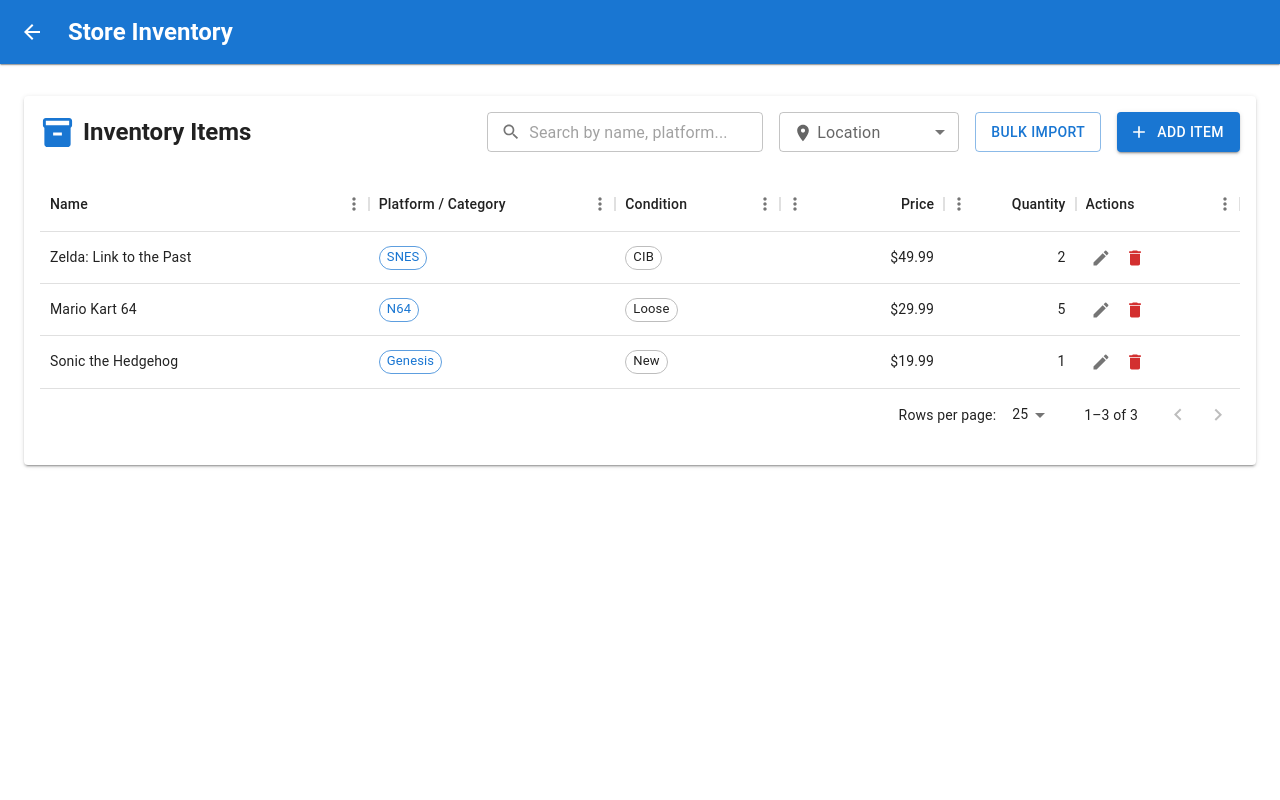
it: InventoryPage › Add Item dialog › closes dialog when Cancel is clicked
Click the button "Add Item": (1179,132) left=1117, top=112, right=1240, bottom=152
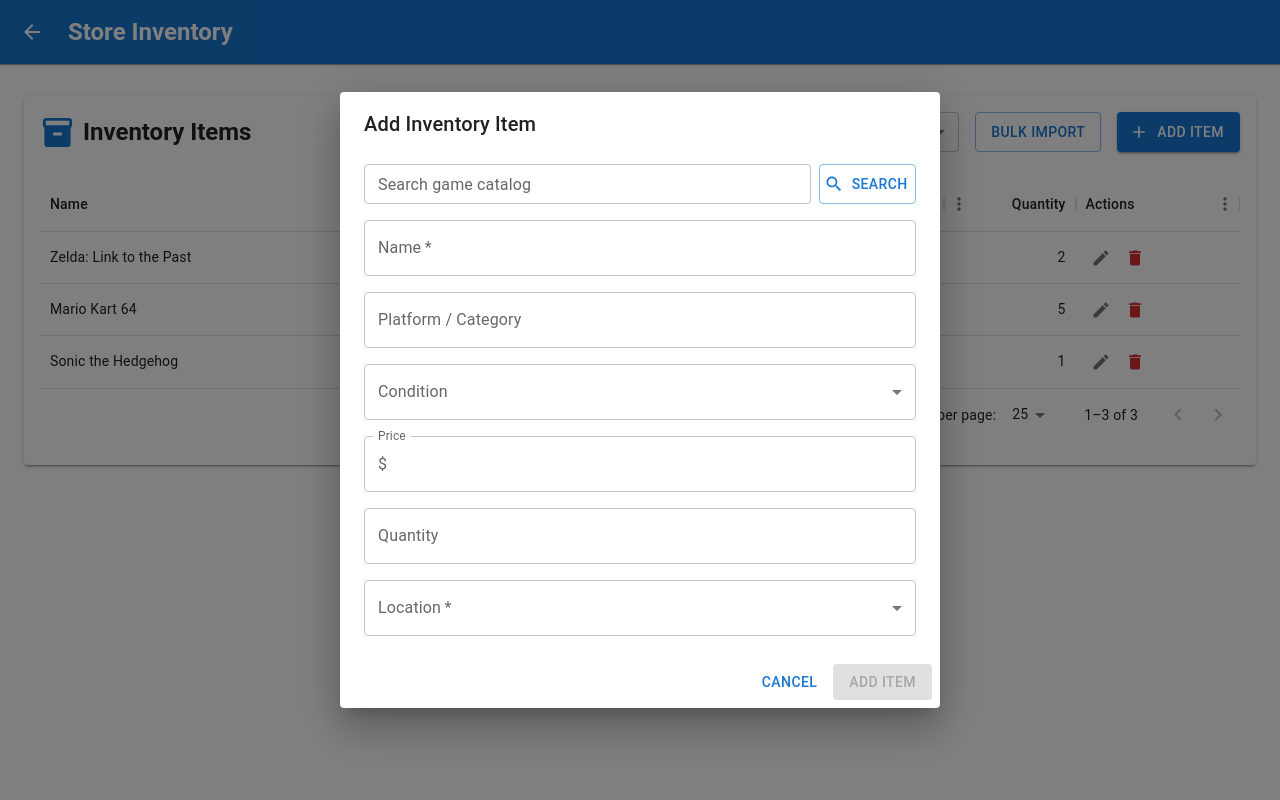
Now the dialog is shown, box left=340, top=92, right=940, bottom=708
Click the button "Cancel": (790,682) left=754, top=664, right=825, bottom=700
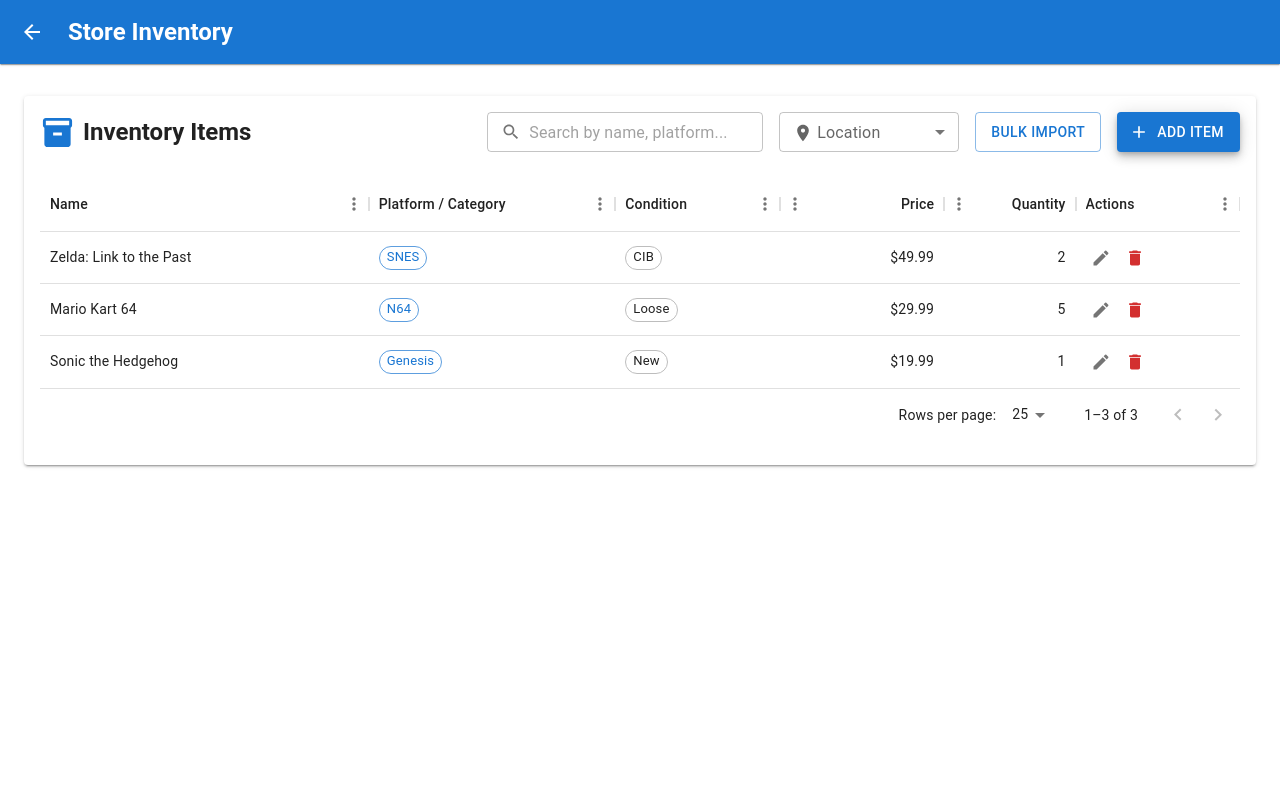
Now the dialog is gone
